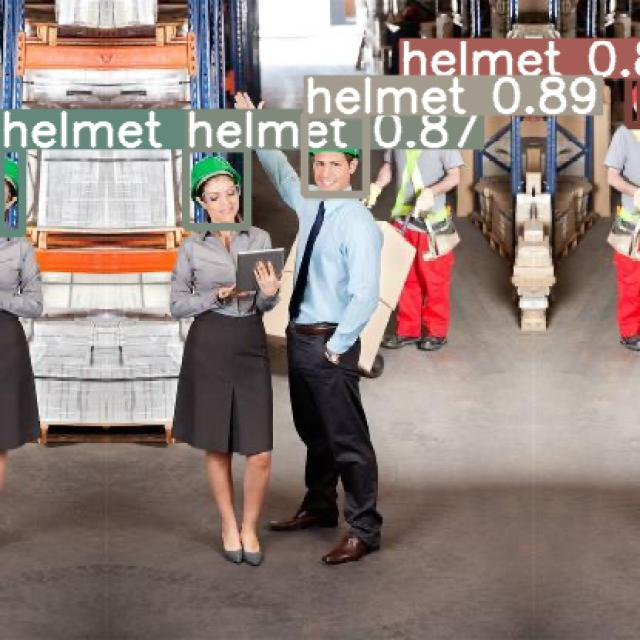Helmet: (189, 154, 241, 203)
